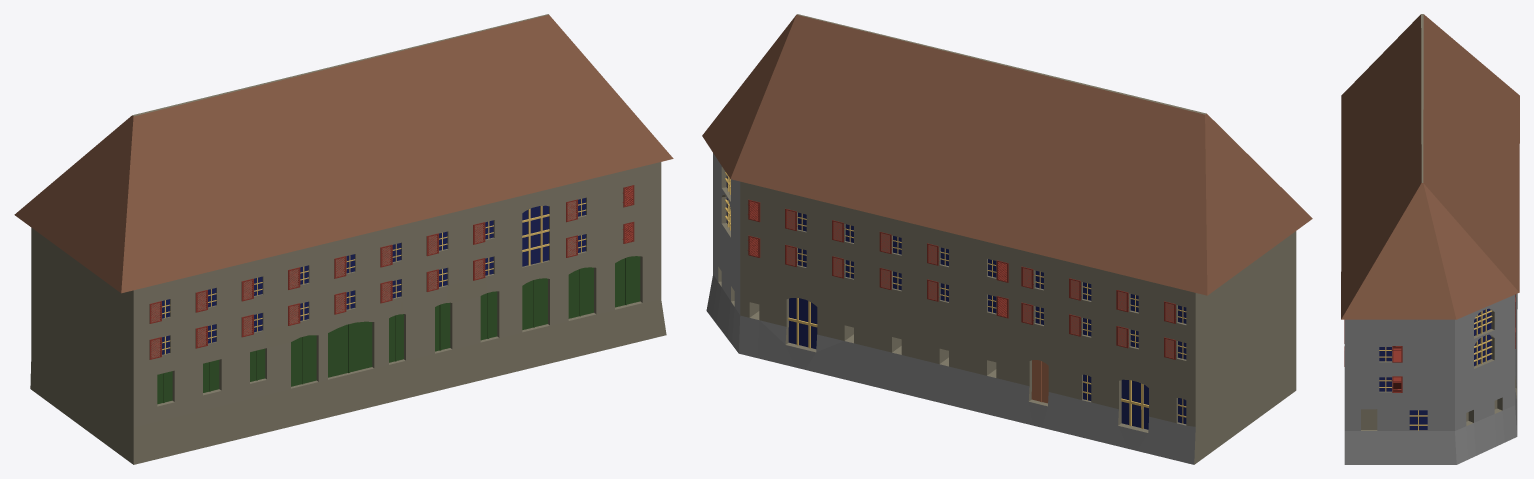
The model's file is Landhaus.fbx.
The picture shows the model from 3 angles, left to right: view 1: azimuth 30°, elevation 25°; view 2: azimuth 150°, elevation 25°; view 3: azimuth 270°, elevation 25°; orthographic projection. The views are drawn at different scales.
Visible parts, largest first — view 1: Cube.9292, Cube.9286, Cube.9417, Cube.9282, Cube.9281, Cube.9287, Cube.150, Cube.9283, Cube.9284, Cube.9285; view 2: Cube.9292, Cube.9375, Cube.9425, Cube.9291; view 3: Cube.9292, Cube.9423, Cube.9377, Cube.9378, Cube.9379, Cube.9380.
Boxes of the visible parts, x1,y1,x2,y2 form: Cube.9292: [14, 14, 673, 464]; Cube.9286: [328, 321, 372, 377]; Cube.9417: [522, 205, 548, 266]; Cube.9282: [522, 278, 547, 329]; Cube.9281: [568, 267, 593, 318]; Cube.9287: [291, 335, 316, 386]; Cube.150: [615, 256, 640, 307]; Cube.9283: [480, 291, 497, 340]; Cube.9284: [435, 303, 450, 351]; Cube.9285: [389, 314, 403, 362]; Cube.9292: [702, 14, 1312, 464]; Cube.9375: [788, 298, 817, 348]; Cube.9425: [1121, 379, 1148, 429]; Cube.9291: [1031, 360, 1048, 403]; Cube.9292: [1341, 14, 1519, 464]; Cube.9423: [1409, 410, 1427, 430]; Cube.9377: [1474, 334, 1491, 366]; Cube.9378: [1474, 333, 1492, 365]; Cube.9379: [1474, 308, 1491, 335]; Cube.9380: [1474, 309, 1492, 335].
Bounding box in the file's own units: 6396 × 3364 × 2155.
